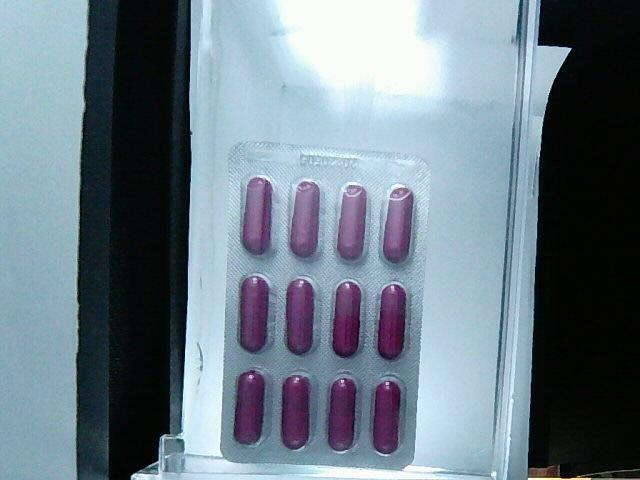Light Front: (219, 137, 436, 473)
Pill Front: (242, 172, 277, 254), (336, 182, 370, 261), (279, 372, 313, 450), (372, 377, 405, 457), (234, 367, 267, 447), (239, 275, 271, 355), (285, 277, 317, 355), (290, 180, 322, 255), (335, 280, 364, 358), (385, 184, 414, 261), (380, 281, 408, 358), (330, 379, 359, 452)
